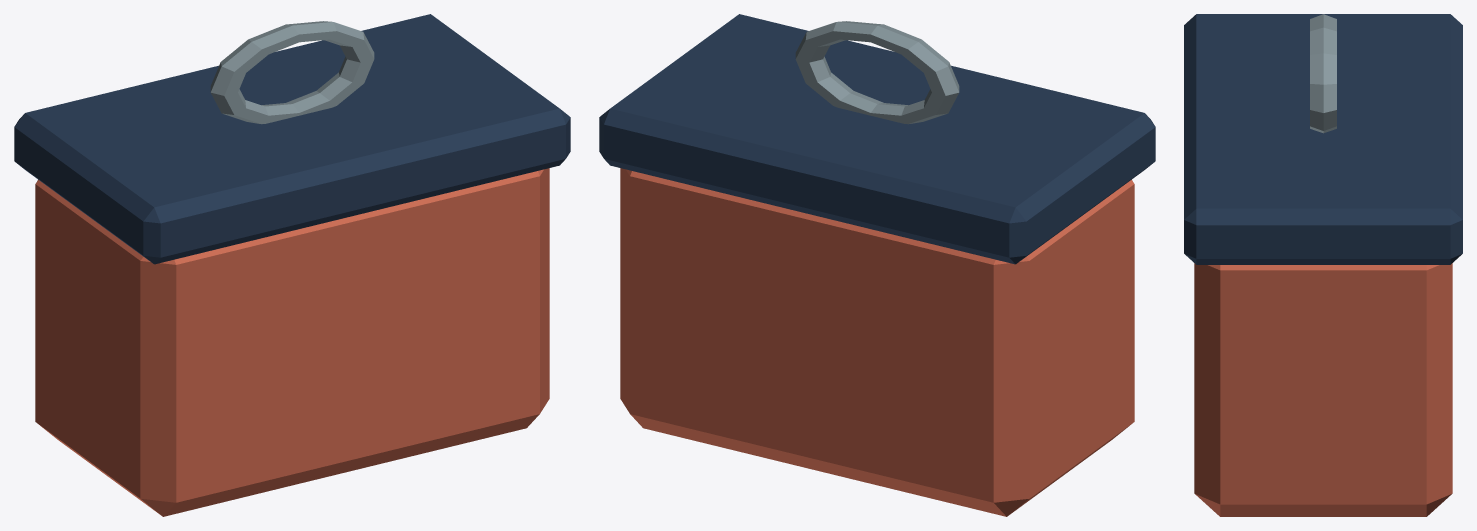
The model's file is Prop_Toolbox.fbx.
The picture shows the model from 3 angles, left to right: view 1: azimuth 30°, elevation 25°; view 2: azimuth 150°, elevation 25°; view 3: azimuth 270°, elevation 25°; orthographic projection.
Parts seen in each view (by area): view 1: Box, Lid.001, Handle.009; view 2: Box, Lid.001, Handle.009; view 3: Lid.001, Box, Handle.009.
Part boxes in pixels (bbox=[...]): Box: bbox=[35, 168, 549, 516]; Lid.001: bbox=[14, 14, 570, 264]; Handle.009: bbox=[210, 21, 374, 124]; Box: bbox=[620, 168, 1134, 516]; Lid.001: bbox=[599, 14, 1155, 264]; Handle.009: bbox=[795, 21, 959, 124]; Lid.001: bbox=[1184, 14, 1462, 264]; Box: bbox=[1194, 263, 1452, 516]; Handle.009: bbox=[1310, 14, 1336, 133].
Bounding box in the file's own units: 0.47 × 0.4295 × 0.27.
